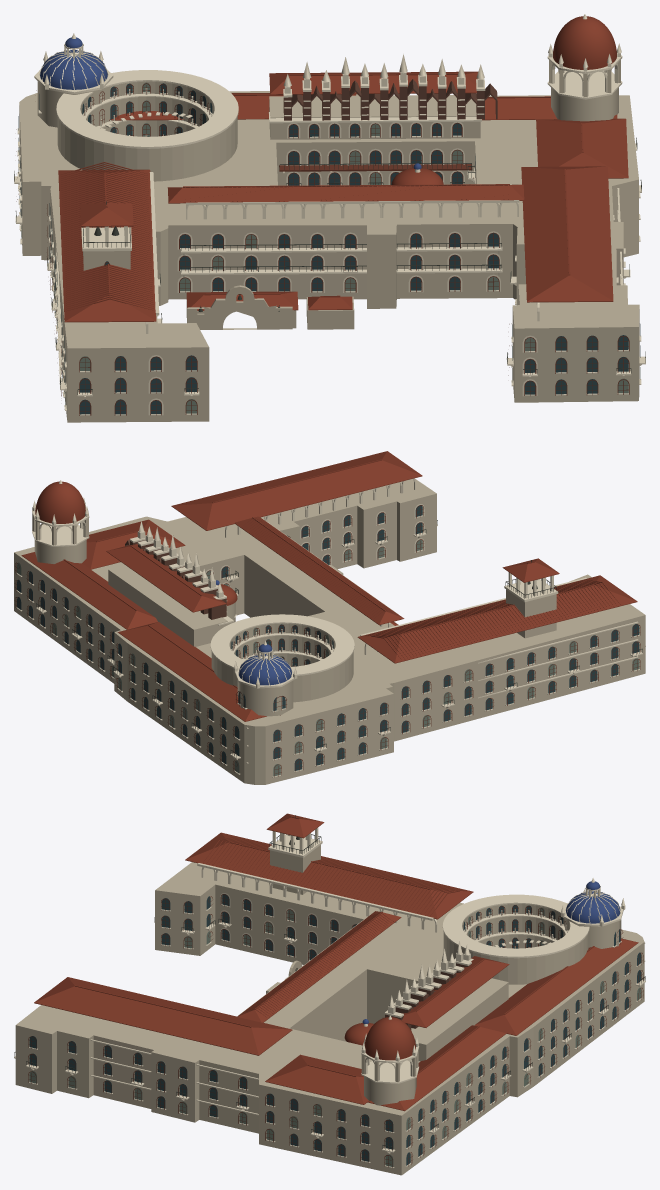
The model's file is mission-inn-near.glb.
The picture shows the model from 3 angles, top to bottom: view 1: azimuth 30°, elevation 25°; view 2: azimuth 150°, elevation 25°; view 3: azimuth 270°, elevation 25°; orthographic projection. The views are drawn at different scales.
Visible parts, largest first — view 1: mission-inn-0-stone, mission-inn-0-roof, mission-inn-0-trim, mission-inn-0-glass, mission-inn-0-wood, mission-inn-0-masonry, mission-inn-0-iron, mission-inn-0-tile, mission-inn-0-glow; view 2: mission-inn-0-stone, mission-inn-0-roof, mission-inn-0-trim, mission-inn-0-glass, mission-inn-0-wood, mission-inn-0-glow, mission-inn-0-tile, mission-inn-0-masonry, mission-inn-0-iron; view 3: mission-inn-0-stone, mission-inn-0-roof, mission-inn-0-trim, mission-inn-0-glass, mission-inn-0-wood, mission-inn-0-glow, mission-inn-0-tile, mission-inn-0-iron, mission-inn-0-masonry.
Part boxes in pixels (x1,y1,x2,y2): mission-inn-0-stone: [19, 60, 639, 422]; mission-inn-0-roof: [58, 16, 628, 322]; mission-inn-0-trim: [14, 14, 645, 415]; mission-inn-0-glass: [18, 83, 640, 414]; mission-inn-0-wood: [16, 83, 629, 415]; mission-inn-0-masonry: [283, 79, 497, 120]; mission-inn-0-iron: [14, 137, 645, 394]; mission-inn-0-tile: [40, 37, 421, 169]; mission-inn-0-glow: [18, 82, 640, 413]; mission-inn-0-stone: [14, 479, 645, 784]; mission-inn-0-roof: [21, 451, 637, 721]; mission-inn-0-trim: [16, 478, 645, 777]; mission-inn-0-glass: [17, 505, 639, 770]; mission-inn-0-wood: [14, 505, 640, 777]; mission-inn-0-glow: [17, 540, 639, 776]; mission-inn-0-tile: [216, 580, 291, 685]; mission-inn-0-masonry: [125, 540, 226, 619]; mission-inn-0-iron: [36, 520, 642, 757]; mission-inn-0-stone: [15, 845, 644, 1175]; mission-inn-0-roof: [34, 813, 638, 1111]; mission-inn-0-trim: [14, 827, 645, 1168]; mission-inn-0-glass: [29, 894, 641, 1165]; mission-inn-0-wood: [28, 894, 643, 1167]; mission-inn-0-glow: [29, 907, 641, 1166]; mission-inn-0-tile: [362, 881, 620, 1023]; mission-inn-0-iron: [14, 815, 645, 1151]; mission-inn-0-masonry: [382, 963, 471, 1029].
Bounding box in the file's own units: 135 × 32.6 × 134.
